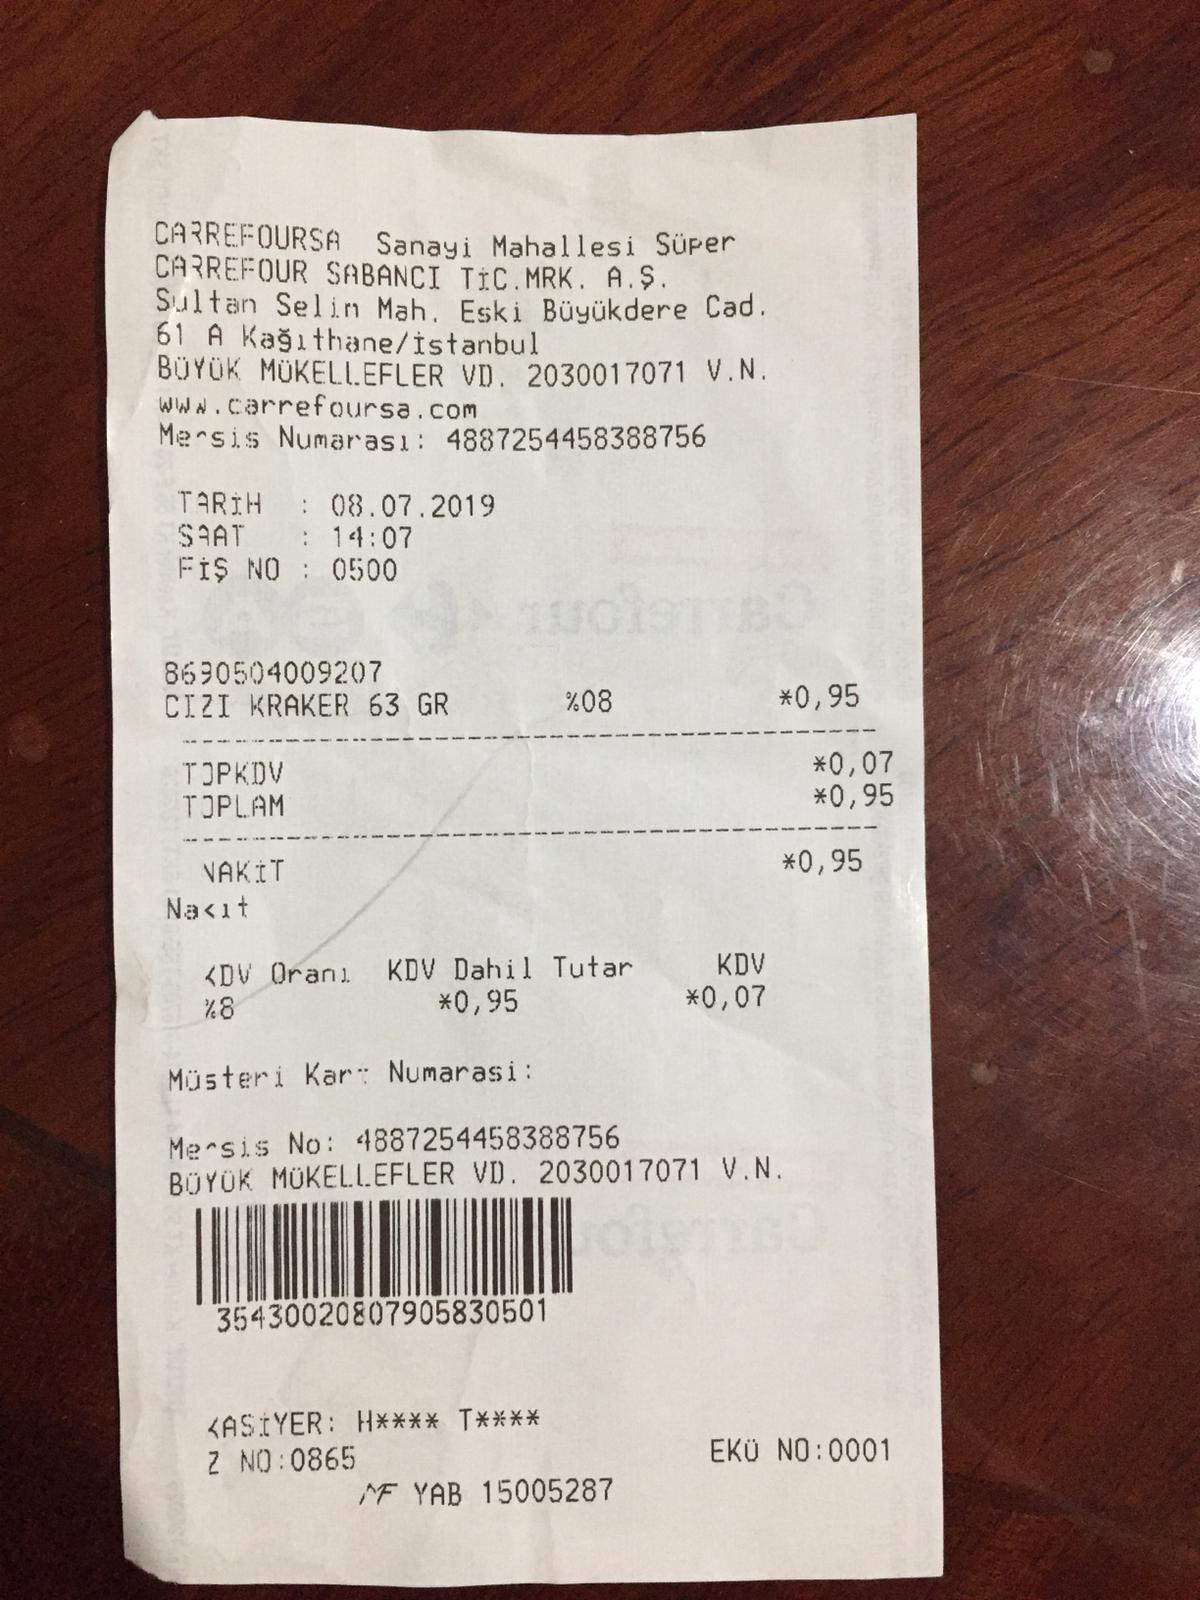total: (180, 779, 904, 827)
